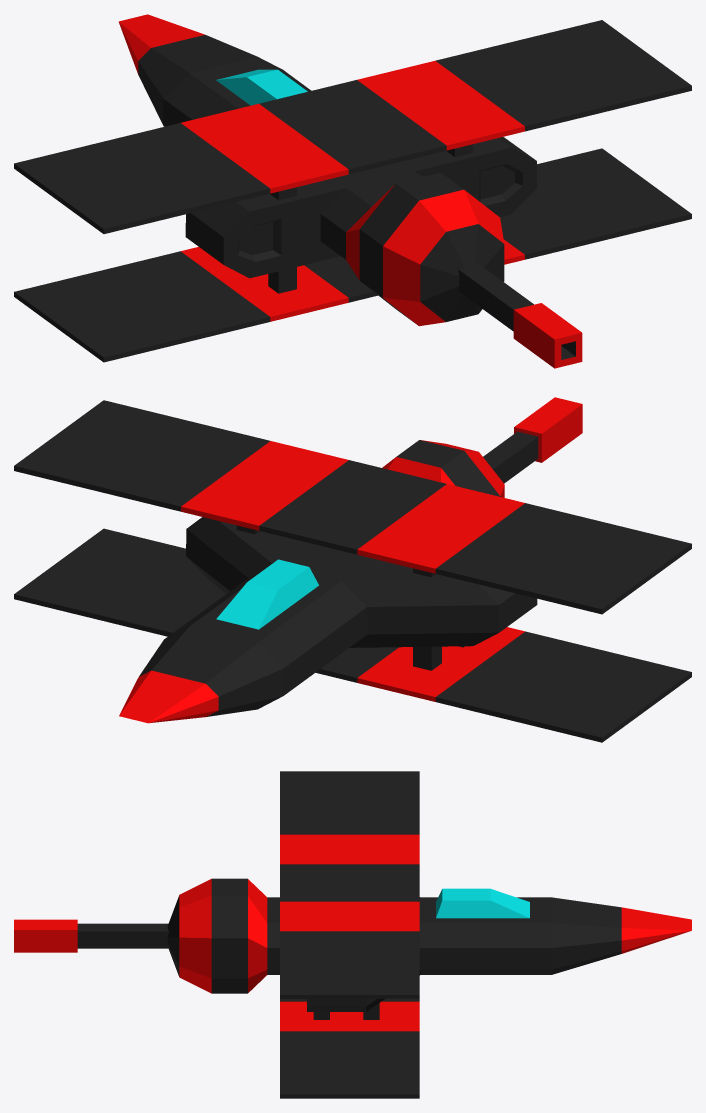
Rendered from BeePlane.fbx.
3 renders of one model, top to bottom at view 1: azimuth 30°, elevation 25°; view 2: azimuth 150°, elevation 25°; view 3: azimuth 270°, elevation 25°, orthographic. The views are drawn at different scales.
Parts seen in each view (by area): view 1: Plane_Body, Plane_Turret1; view 2: Plane_Body, Plane_Turret1; view 3: Plane_Body, Plane_Turret1.
Part boxes in pixels (x1,y1,x2,y2): Plane_Body: (14, 14, 691, 362); Plane_Turret1: (458, 264, 582, 368); Plane_Body: (14, 400, 691, 742); Plane_Turret1: (483, 397, 582, 483); Plane_Body: (167, 771, 691, 1098); Plane_Turret1: (14, 919, 169, 952).
Size of the model in its own units: 12 by 2.6 by 15.39.
